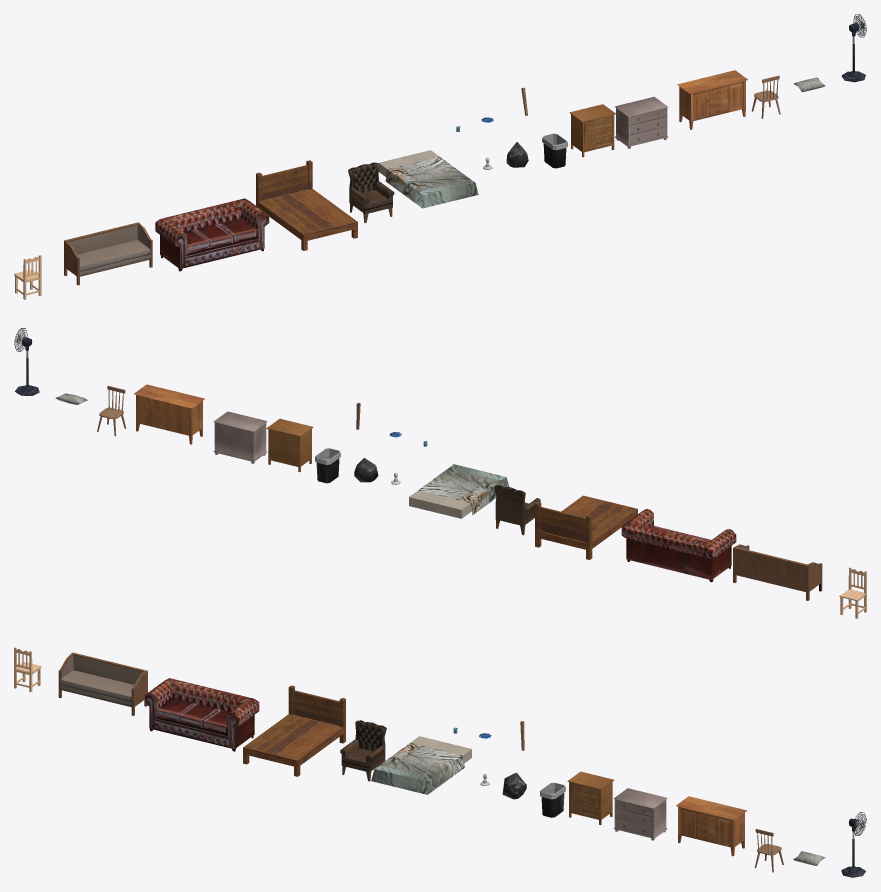
Rendered from furniture_001.fbx.
3 views of the same model, one above another, from view 1: azimuth 30°, elevation 25°; view 2: azimuth 150°, elevation 25°; view 3: azimuth 330°, elevation 25° (orthographic).
Visible parts, largest first — view 1: Armchair_04, Bed, bed_04.002, Armchair_07, Chest_drawers_05, Chest_drawers_02, Chest_drawers_01, Armchair, Chair_03, Trash_can, Ventilator; view 2: Armchair_04, Bed, bed_04.002, Chest_drawers_05, Armchair_07, Chest_drawers_02, Chest_drawers_01, Armchair, Chair_03, Trash_can, Ventilator, Chair_04; view 3: Armchair_04, Bed, bed_04.002, Armchair_07, Chest_drawers_05, Chest_drawers_02, Chest_drawers_01, Armchair, Trash_can, Chair_03, Ventilator, Chair_04 (+1 smaller).
Part boxes in pixels (x1=…): Armchair_04: x1=155, y1=198, x2=269, y2=271; Bed: x1=256, y1=160, x2=357, y2=250; bed_04.002: x1=378, y1=150, x2=478, y2=208; Armchair_07: x1=64, y1=222, x2=152, y2=285; Chest_drawers_05: x1=677, y1=70, x2=747, y2=129; Chest_drawers_02: x1=615, y1=96, x2=668, y2=148; Chest_drawers_01: x1=569, y1=104, x2=615, y2=157; Armchair: x1=348, y1=162, x2=394, y2=223; Chair_03: x1=14, y1=255, x2=41, y2=299; Trash_can: x1=542, y1=133, x2=567, y2=168; Ventilator: x1=841, y1=14, x2=866, y2=82; Armchair_04: x1=621, y1=509, x2=736, y2=582; Bed: x1=535, y1=495, x2=637, y2=559; bed_04.002: x1=409, y1=464, x2=509, y2=518; Chest_drawers_05: x1=133, y1=384, x2=204, y2=444; Armchair_07: x1=733, y1=544, x2=822, y2=600; Chest_drawers_02: x1=213, y1=411, x2=267, y2=463; Chest_drawers_01: x1=266, y1=418, x2=313, y2=472; Armchair: x1=494, y1=485, x2=540, y2=535; Chair_03: x1=839, y1=567, x2=866, y2=618; Trash_can: x1=315, y1=448, x2=340, y2=483; Ventilator: x1=14, y1=328, x2=39, y2=395; Chair_04: x1=97, y1=385, x2=126, y2=436; Armchair_04: x1=144, y1=678, x2=259, y2=751; Bed: x1=243, y1=685, x2=345, y2=776; bed_04.002: x1=371, y1=736, x2=471, y2=794; Armchair_07: x1=58, y1=652, x2=147, y2=715; Chest_drawers_05: x1=676, y1=796, x2=747, y2=856; Chest_drawers_02: x1=613, y1=788, x2=667, y2=840; Chest_drawers_01: x1=567, y1=771, x2=614, y2=824; Armchair: x1=340, y1=720, x2=386, y2=781; Trash_can: x1=540, y1=782, x2=565, y2=817; Chair_03: x1=14, y1=647, x2=41, y2=692; Ventilator: x1=841, y1=812, x2=866, y2=877; Chair_04: x1=754, y1=828, x2=783, y2=872.
Size of the model in its own units: 25.08 by 2.47 by 2.58.
